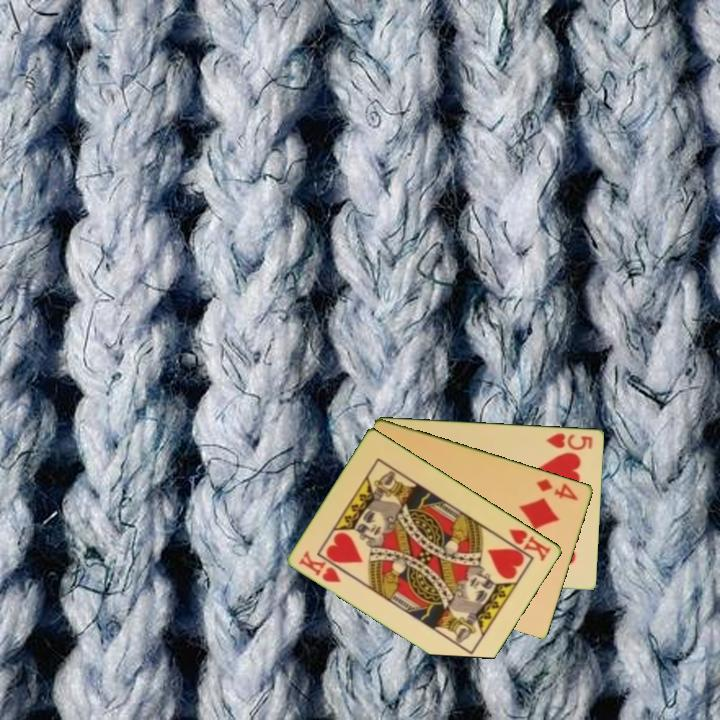4d: (533, 475, 582, 503)
5h: (543, 429, 595, 453)
Kh: (498, 525, 554, 564), (296, 547, 345, 586)
